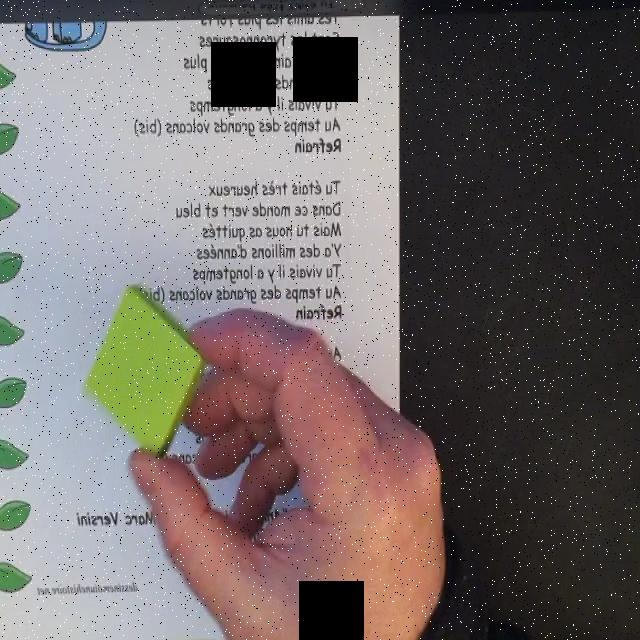square: (85, 286, 207, 458)
